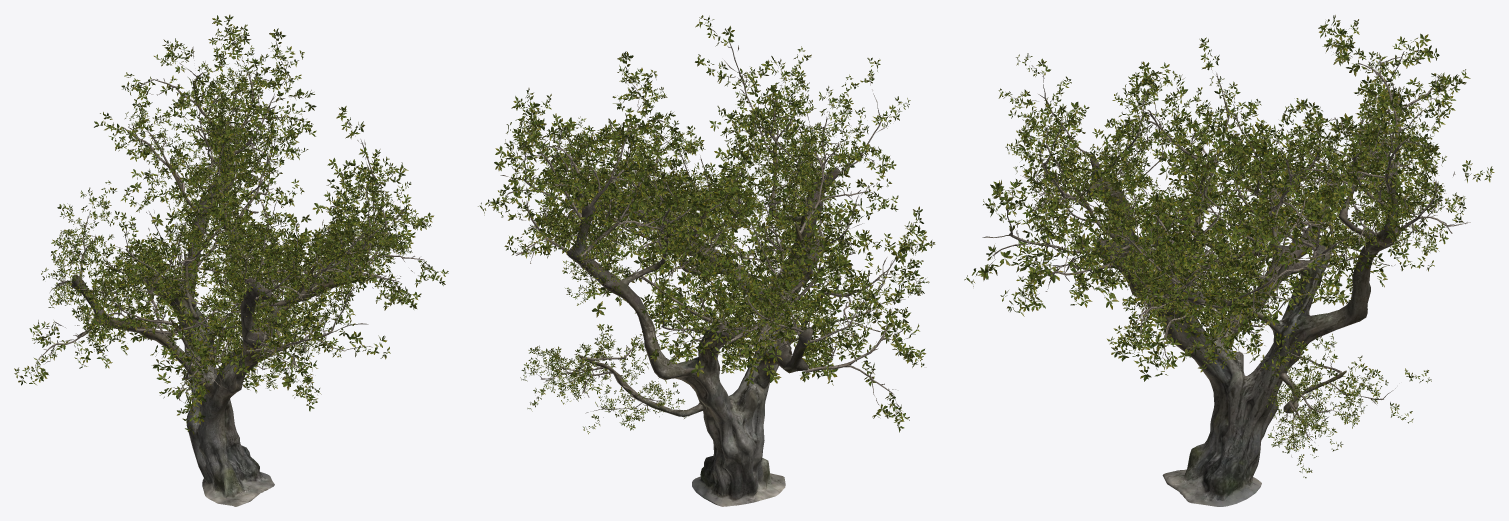
File: tree.glb
The picture shows the model from 3 angles, left to right: view 1: azimuth 30°, elevation 25°; view 2: azimuth 150°, elevation 25°; view 3: azimuth 270°, elevation 25°; orthographic projection. The views are drawn at different scales.
Parts seen in each view (by area): view 1: island_tree_01_LOD0; view 2: island_tree_01_LOD0; view 3: island_tree_01_LOD0.
Part boxes in pixels (x1,y1,x2,y2): island_tree_01_LOD0: (14, 14, 448, 506); island_tree_01_LOD0: (478, 15, 935, 506); island_tree_01_LOD0: (964, 15, 1494, 506).
Bounding box in the file's own units: 4.75 × 5.02 × 4.82.
Materials: 3 (3 with a texture image).
